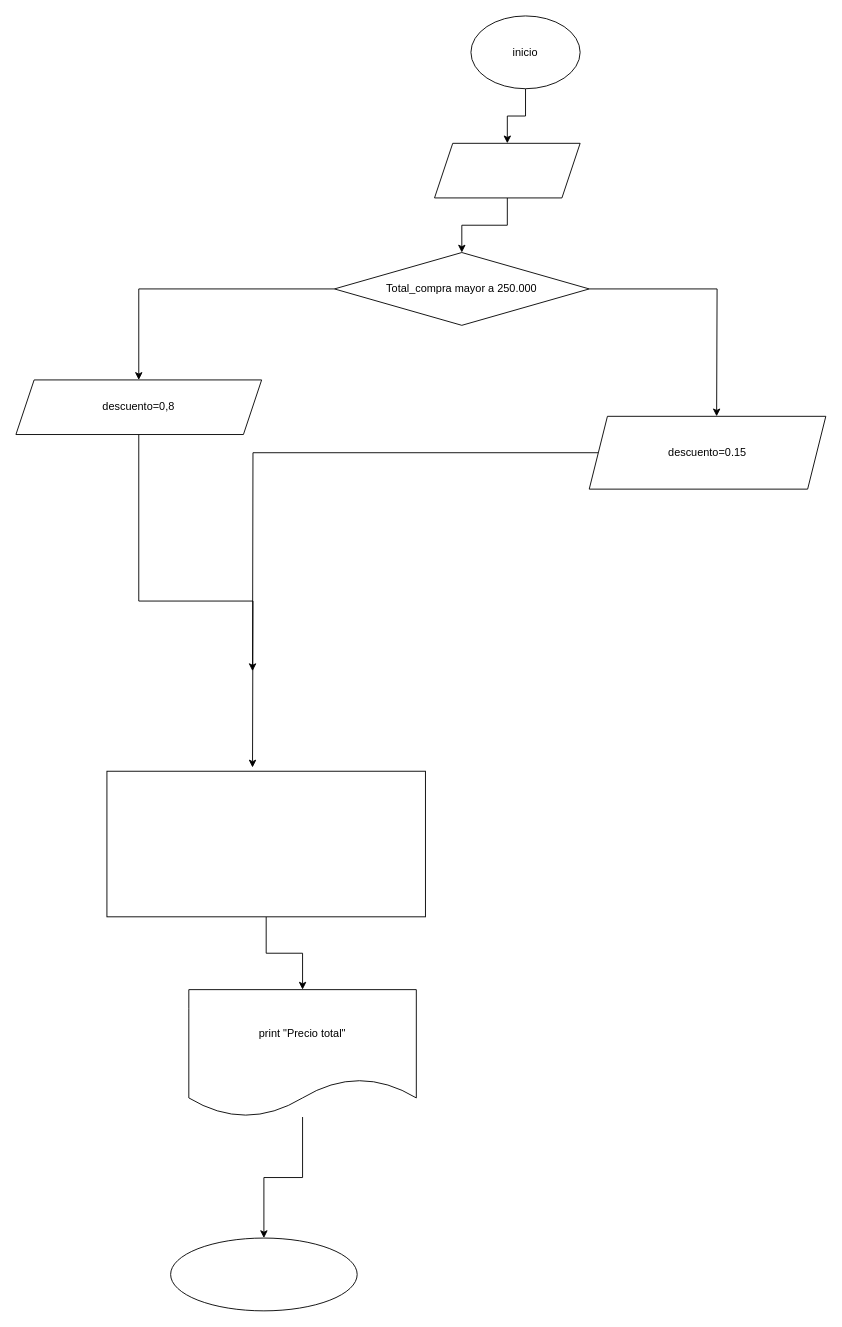
Image size: 842x1327. Some labels were removed from this diagram. Here are the shapes that lost their labels. From the top down, the centre of each, then its label:
At [507,170]: "Total_compra".
At [265,843]: "Total= TotalPagar * descuento".
At [263,1274]: "fin".
